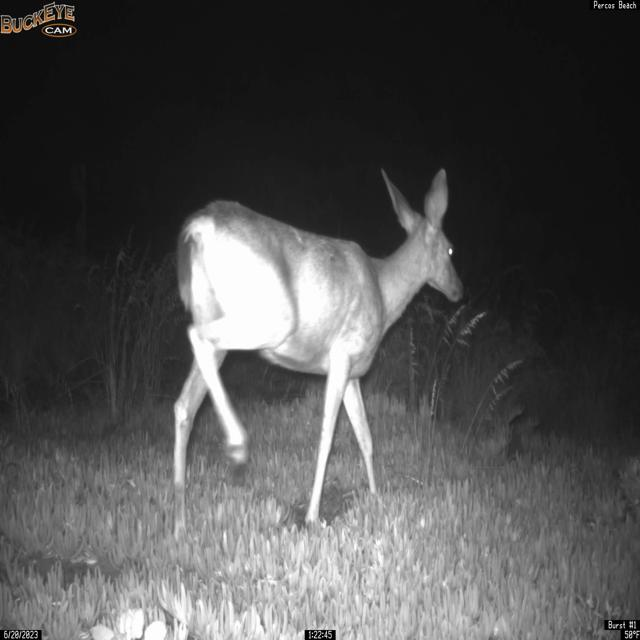deer: (170, 166, 465, 532)
